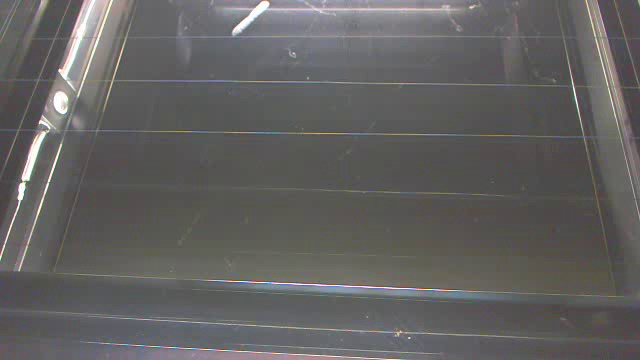alpha: (231, 1, 271, 37)
